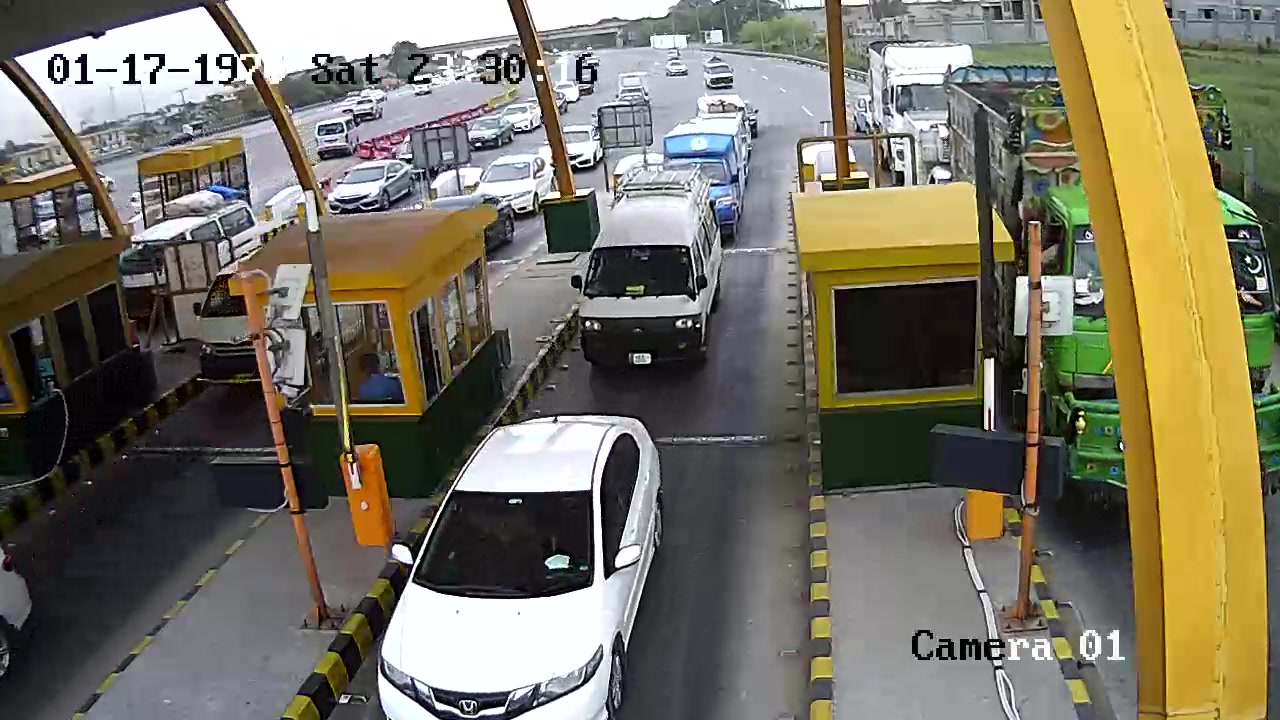F3: (582, 165, 733, 371)
